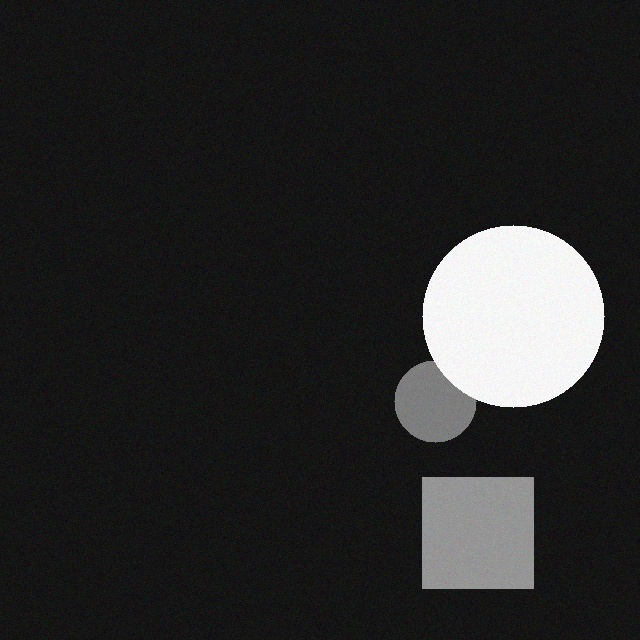circle: (409, 215, 591, 397), (381, 350, 463, 432)
square: (409, 467, 520, 578)
